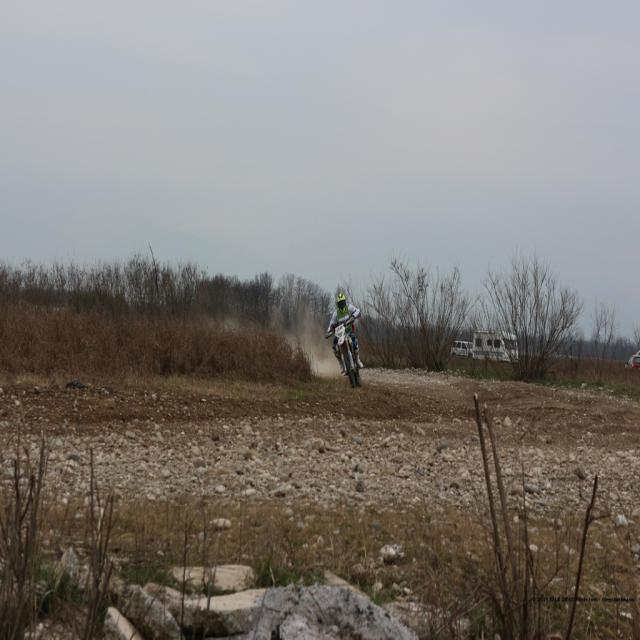Motorbikes: (326, 292, 364, 394)
